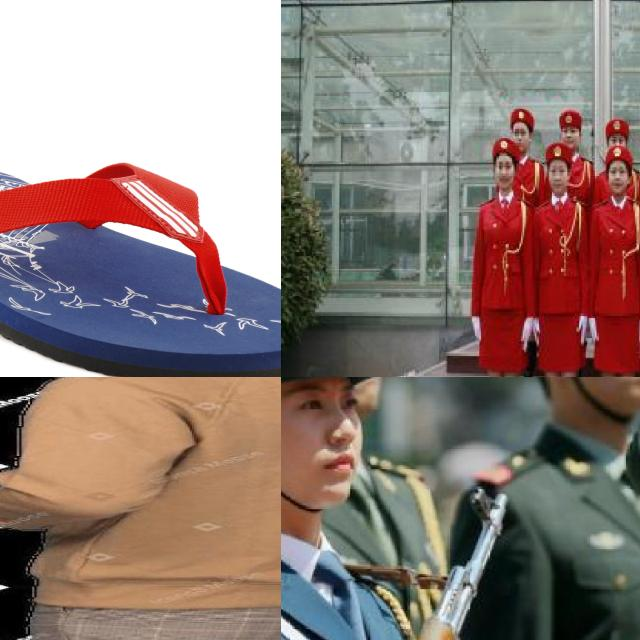Sandals: (0, 160, 281, 377)
face_nomask: (281, 377, 372, 504), (489, 152, 516, 190), (607, 161, 632, 197), (549, 160, 569, 195)
hand_glove: (530, 315, 543, 353), (521, 316, 533, 352), (578, 314, 589, 348), (587, 318, 598, 349), (470, 318, 483, 341), (638, 321, 640, 345)
head_nohelmet: (486, 135, 520, 161), (555, 108, 586, 133), (604, 143, 632, 169), (545, 141, 571, 167), (509, 107, 536, 131), (605, 116, 629, 142)
person: (0, 377, 281, 640), (281, 377, 458, 640), (472, 377, 640, 640), (524, 130, 587, 377), (462, 130, 522, 377), (590, 138, 634, 377)
